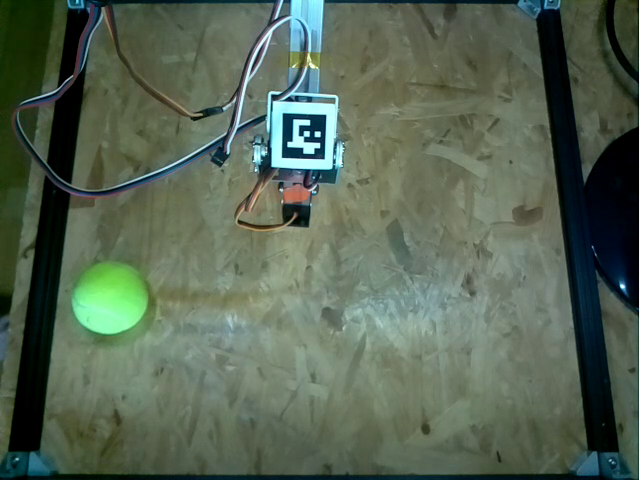tennis_ball: (71, 261, 150, 336)
